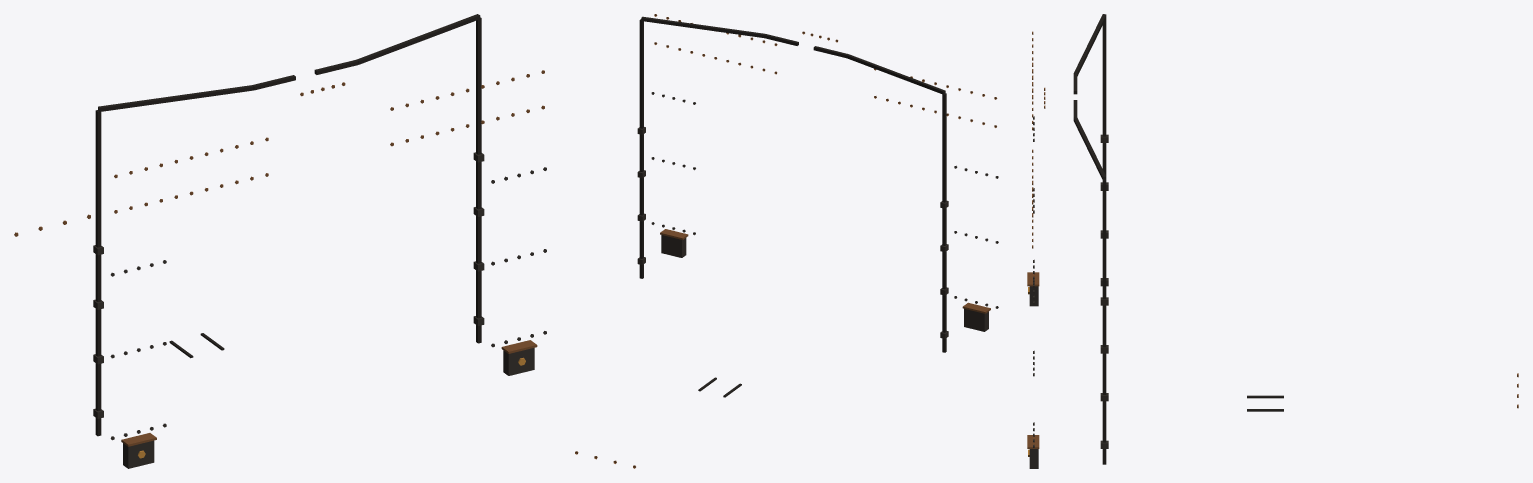
Rendered from camp_launch_gate_detail1.glb.
The picture shows the model from 3 angles, left to right: view 1: azimuth 30°, elevation 25°; view 2: azimuth 150°, elevation 25°; view 3: azimuth 270°, elevation 25°; orthographic projection. The views are drawn at different scales.
Visible parts, largest first — view 1: Body; view 2: Body; view 3: Body.
Boxes of the visible parts, box(x1,y1,x2,y2) form: Body: box(14, 14, 546, 468); Body: box(575, 14, 998, 468); Body: box(1027, 14, 1518, 468).
Bounding box in the file's own units: 16.73 × 12.93 × 18.62.
